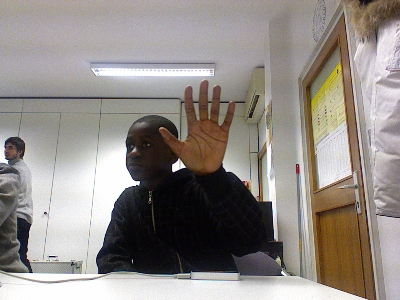布: (157, 78, 235, 178)
